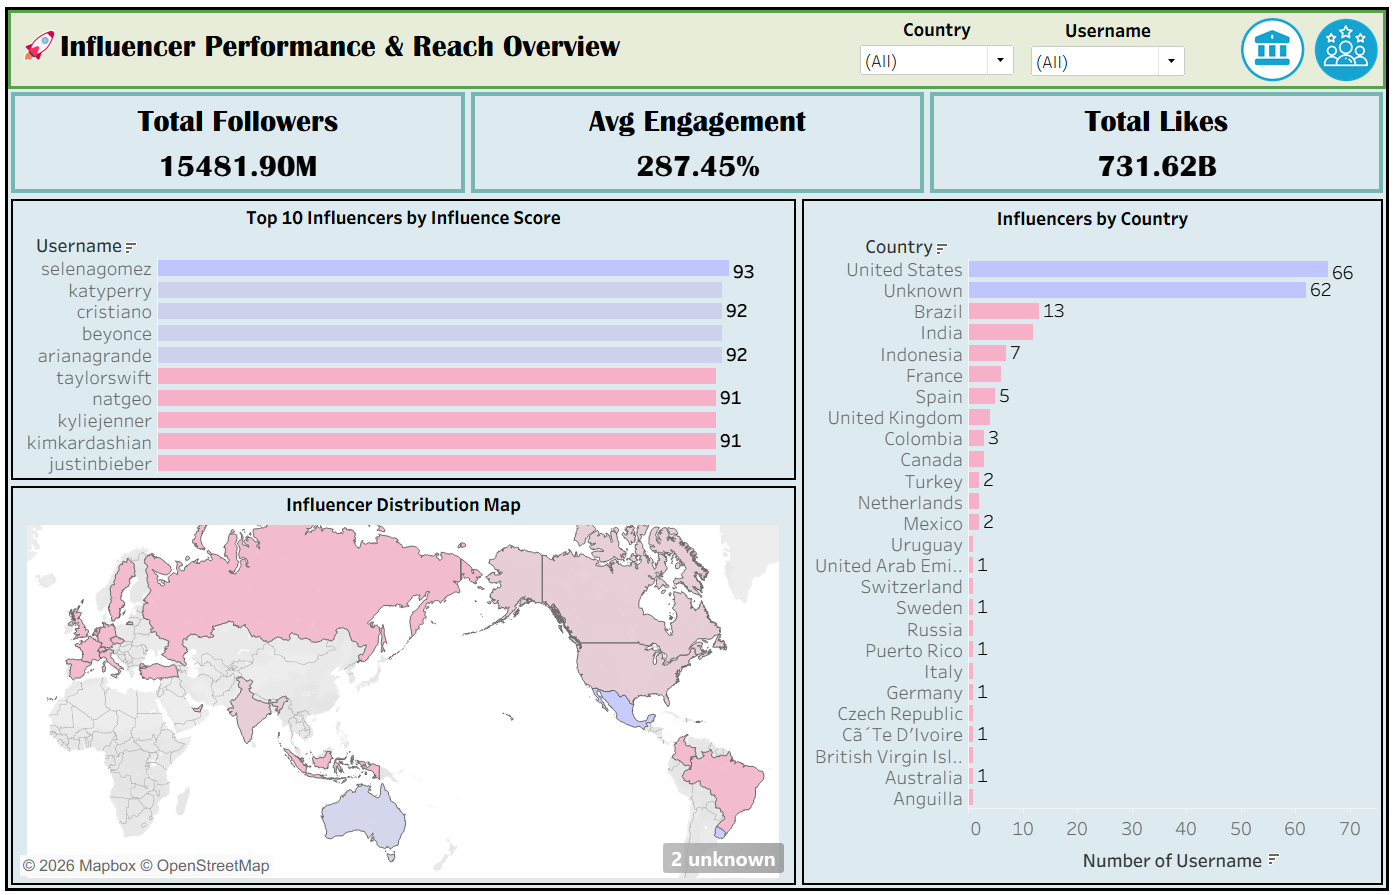

The dashboard page shown, as its layout file describes it:
{"tool":"tableau","page":{"name":"Influencer Performance & Reach Overview","canvas":[1400,900],"ordinal":1},"visuals":[{"type":"text","box":[14,14,1225,73]},{"type":"dashboard-object","box":[1239,14,73,73]},{"type":"dashboard-object","box":[1312,14,74,73]},{"type":"filter","title":"Influencer Distribution Map","param":"[federated.03d78ib1kz650z1doxtaf1as8ka9].[Action (Country)]","box":[860,17,160,62]},{"type":"filter","title":"Influencer Distribution Map","param":"[federated.03d78ib1kz650z1doxtaf1as8ka9].[Action (Username)]","box":[1031,18,160,62]},{"type":"worksheet","title":"KPI - Total Followers","mark":"Automatic","box":[18,97,446,93]},{"type":"worksheet","title":"KPI - Avg Engagement","mark":"Automatic","box":[478,97,445,93]},{"type":"worksheet","title":"KPI - Total Likes","mark":"Automatic","box":[937,97,445,93]},{"type":"text","box":[16,202,781,32]},{"type":"text","box":[807,202,577,33]},{"type":"worksheet","title":"Top Influencers by Influence Score","mark":"Bar","rows":["username"],"cols":["influence_score"],"box":[16,234,781,245]},{"type":"worksheet","title":"Influencers by Country","mark":"Bar","rows":["country"],"cols":["username"],"box":[807,235,577,648.9]},{"type":"text","box":[16,489,781,32]},{"type":"worksheet","title":"Influencer Distribution Map","mark":"Multipolygon","box":[16,521,781,363]}]}

Visuals, with their boxes in screenshot pixels (x1, y1, x2, y2), scaled from the page's 1400x900 canvas onto the 1394x895 screenshot:
text: {"left": 14, "top": 14, "right": 1234, "bottom": 87}
dashboard-object: {"left": 1234, "top": 14, "right": 1306, "bottom": 87}
dashboard-object: {"left": 1306, "top": 14, "right": 1380, "bottom": 87}
"Influencer Distribution Map" filter: {"left": 856, "top": 17, "right": 1016, "bottom": 79}
"Influencer Distribution Map" filter: {"left": 1027, "top": 18, "right": 1186, "bottom": 80}
"KPI - Total Followers" worksheet: {"left": 18, "top": 96, "right": 462, "bottom": 189}
"KPI - Avg Engagement" worksheet: {"left": 476, "top": 96, "right": 919, "bottom": 189}
"KPI - Total Likes" worksheet: {"left": 933, "top": 96, "right": 1376, "bottom": 189}
text: {"left": 16, "top": 201, "right": 794, "bottom": 233}
text: {"left": 804, "top": 201, "right": 1378, "bottom": 234}
"Top Influencers by Influence Score" worksheet (Bar marks): {"left": 16, "top": 233, "right": 794, "bottom": 476}
"Influencers by Country" worksheet (Bar marks): {"left": 804, "top": 234, "right": 1378, "bottom": 879}
text: {"left": 16, "top": 486, "right": 794, "bottom": 518}
"Influencer Distribution Map" worksheet (Multipolygon marks): {"left": 16, "top": 518, "right": 794, "bottom": 879}
